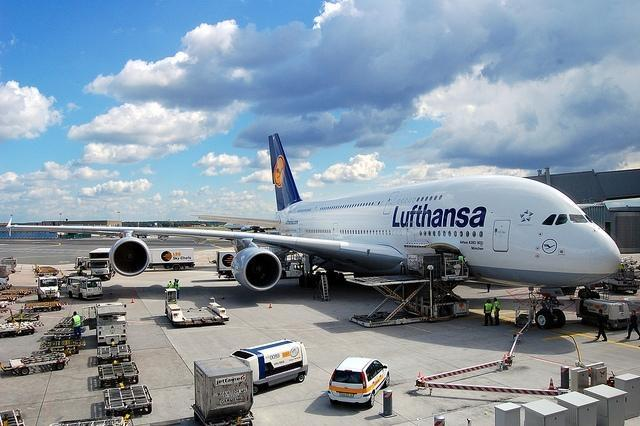car: (330, 354, 390, 406)
truck: (233, 338, 309, 396), (193, 357, 254, 420), (575, 298, 630, 330), (88, 246, 114, 280), (38, 276, 61, 301), (77, 278, 104, 298), (66, 276, 88, 298)
